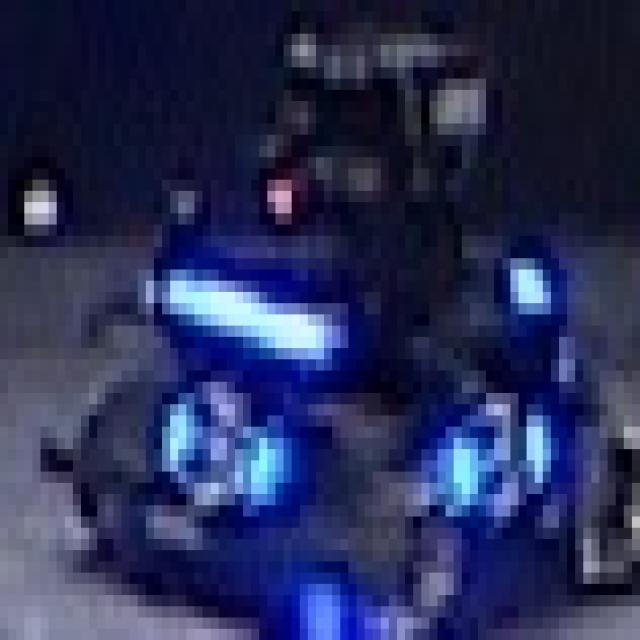B3: (154, 371, 292, 516), (437, 382, 551, 516)
